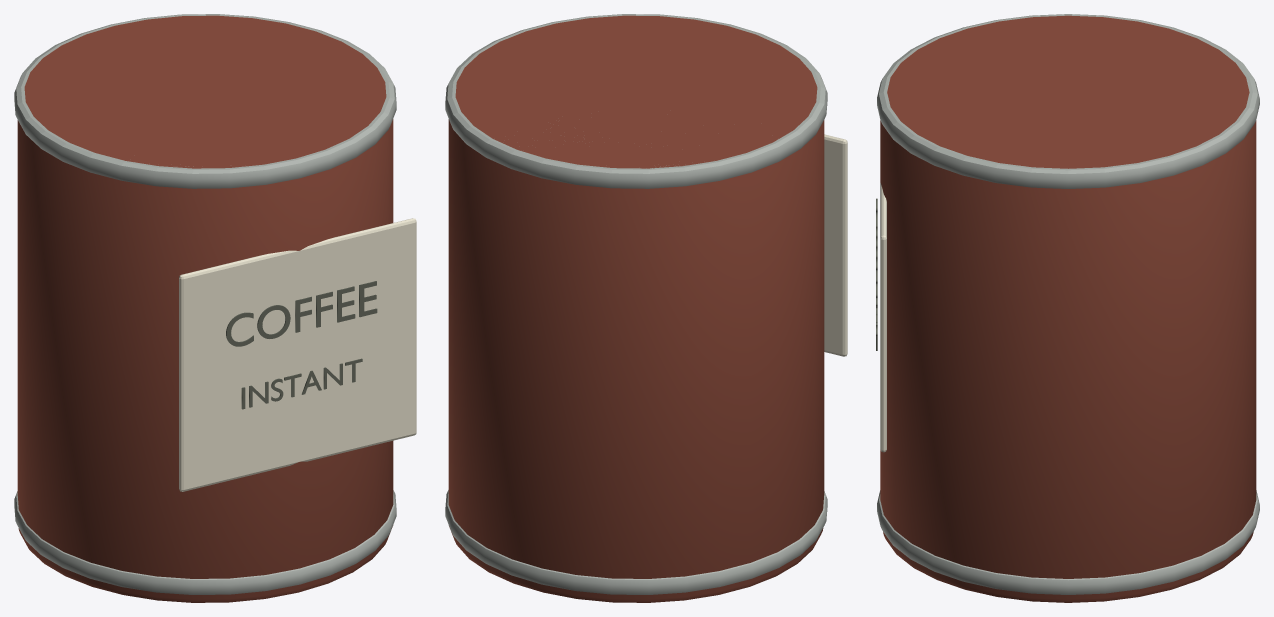
Rendered from prop_coffee_tin.glb.
The picture shows the model from 3 angles, left to right: view 1: azimuth 30°, elevation 25°; view 2: azimuth 150°, elevation 25°; view 3: azimuth 270°, elevation 25°; orthographic projection.
Visible parts, largest first — view 1: Coffee_tin, Coffee_label, Coffee_rim.001, Coffee_rim, Coffee_brand, Coffee_type; view 2: Coffee_tin, Coffee_rim.001, Coffee_rim, Coffee_label; view 3: Coffee_tin, Coffee_rim.001, Coffee_rim, Coffee_label.
Boxes of the visible parts, x1,y1,x2,y2 form: Coffee_tin: (17, 15, 393, 602); Coffee_label: (179, 218, 416, 491); Coffee_rim.001: (14, 14, 396, 188); Coffee_rim: (14, 490, 396, 594); Coffee_brand: (226, 281, 377, 346); Coffee_type: (241, 358, 362, 409); Coffee_tin: (448, 15, 824, 602); Coffee_rim.001: (445, 14, 827, 188); Coffee_rim: (445, 490, 827, 594); Coffee_label: (824, 134, 847, 356); Coffee_tin: (880, 15, 1256, 602); Coffee_rim.001: (877, 14, 1259, 188); Coffee_rim: (877, 490, 1259, 594); Coffee_label: (880, 183, 886, 452).
Size of the model in its own units: 0.112 by 0.14 by 0.1122.
